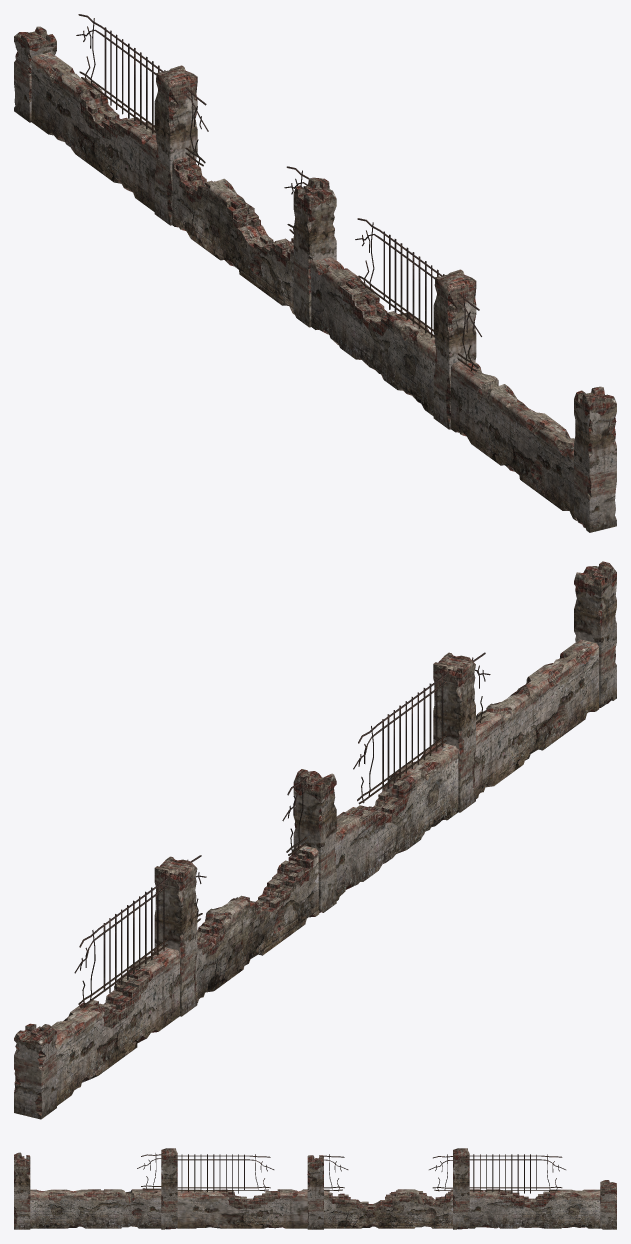
File: ParkFences.FBX
The picture shows the model from 3 angles, top to bottom: view 1: azimuth 30°, elevation 25°; view 2: azimuth 150°, elevation 25°; view 3: azimuth 270°, elevation 25°; orthographic projection. The views are drawn at different scales.
Parts seen in each view (by area): view 1: Wall_1, Wall_6, Wall_4, Wall_5, Stolb_1, Stolb_007, Stolb_3, Stolb_4, metall_4, metall_008, Stolb_6; view 2: Wall_1, Wall_6, Wall_4, Wall_5, Stolb_007, Stolb_3, Stolb_1, Stolb_4, Stolb_6, metall_4, metall_008; view 3: Wall_1, Wall_6, Wall_4, Wall_5, Stolb_3, Stolb_007, Stolb_1, Stolb_4, metall_4, metall_008, Stolb_6, metall_007 (+2 smaller).
Boxes of the visible parts, x1,y1,x2,y2 form: Wall_1: (451,359,576,520); Wall_6: (31,52,157,211); Wall_4: (310,256,435,416); Wall_5: (172,155,294,314); Stolb_1: (574,386,616,532); Stolb_007: (154,65,197,225); Stolb_3: (433,269,476,429); Stolb_4: (293,177,336,327); metall_4: (355,218,444,337); metall_008: (76,14,165,133); Stolb_6: (14,26,56,122); Wall_1: (474,639,599,798); Wall_6: (51,946,179,1105); Wall_4: (335,742,458,900); Wall_5: (195,844,319,1002); Stolb_007: (154,856,197,1016); Stolb_3: (433,652,475,812); Stolb_1: (574,561,616,707); Stolb_4: (293,769,336,912); Stolb_6: (14,1023,56,1119); metall_4: (353,674,446,804); metall_008: (74,878,168,1007); Wall_1: (30,1189,161,1228); Wall_6: (469,1189,600,1228); Wall_4: (177,1189,308,1228); Wall_5: (324,1189,452,1228); Stolb_3: (161,1148,177,1229); Stolb_007: (453,1148,469,1229); Stolb_1: (14,1152,30,1229); Stolb_4: (307,1155,323,1229); metall_4: (177,1154,274,1193); metall_008: (469,1154,565,1193); Stolb_6: (600,1180,616,1229); metall_007: (137,1153,161,1190).
Size of the model in its own units: 0.505 by 2.5 by 18.34.
